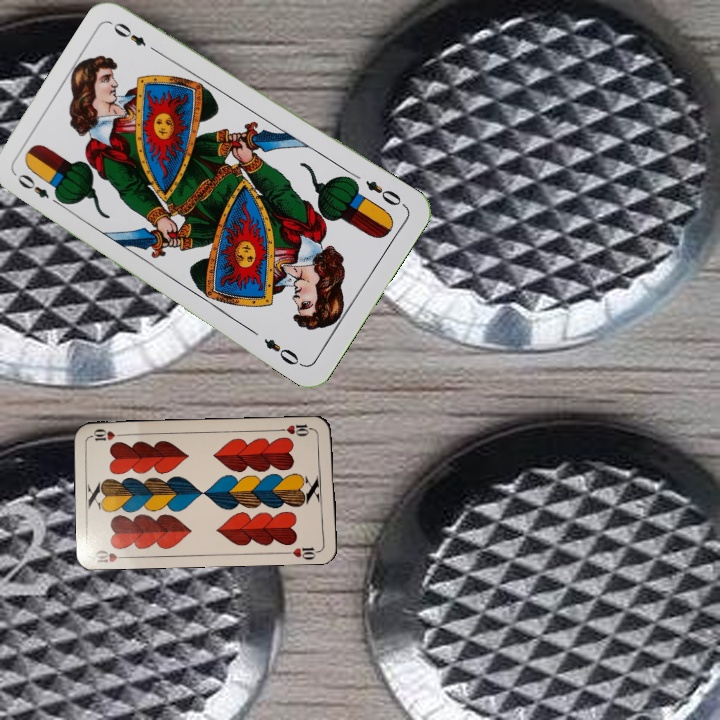EO: (13, 169, 66, 209), (361, 176, 408, 210)
H10: (92, 545, 132, 565), (276, 420, 317, 439)
